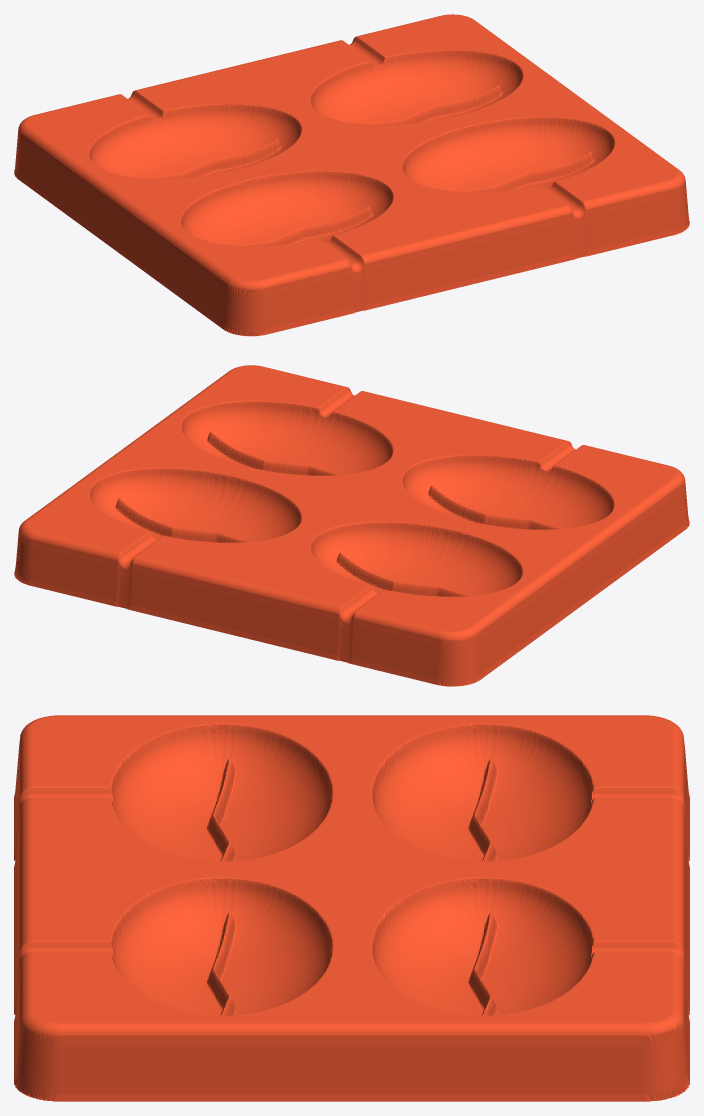
The model's file is mold.glb.
The picture shows the model from 3 angles, top to bottom: view 1: azimuth 30°, elevation 25°; view 2: azimuth 150°, elevation 25°; view 3: azimuth 270°, elevation 25°; orthographic projection. The views are drawn at different scales.
Visible parts, largest first — view 1: geometry_0; view 2: geometry_0; view 3: geometry_0.
Boxes of the visible parts, x1,y1,x2,y2 form: geometry_0: [14, 14, 689, 336]; geometry_0: [14, 365, 689, 686]; geometry_0: [14, 715, 689, 1101].
Size of the model in its own units: 0.1497 by 0.0155 by 0.1329.
